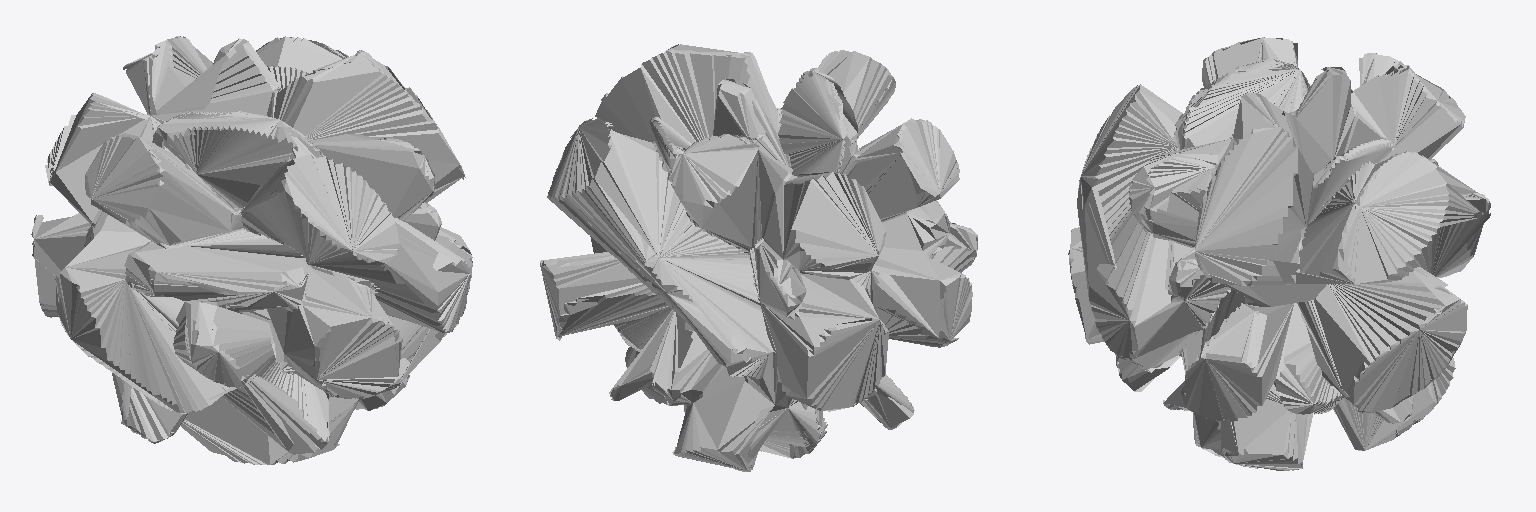
File: weird_veg2.obj
3 renders of one model, left to right at view 1: azimuth 30°, elevation 25°; view 2: azimuth 150°, elevation 25°; view 3: azimuth 270°, elevation 25°, orthographic.
Parts seen in each view (by area): view 1: Cube; view 2: Cube; view 3: Cube.
Boxes of the visible parts, box(x1,y1,x2,y2) form: Cube: box(31, 36, 472, 464); Cube: box(540, 44, 977, 471); Cube: box(1068, 37, 1490, 470).
Bounding box in the file's own units: 2.65 × 2.57 × 2.58.